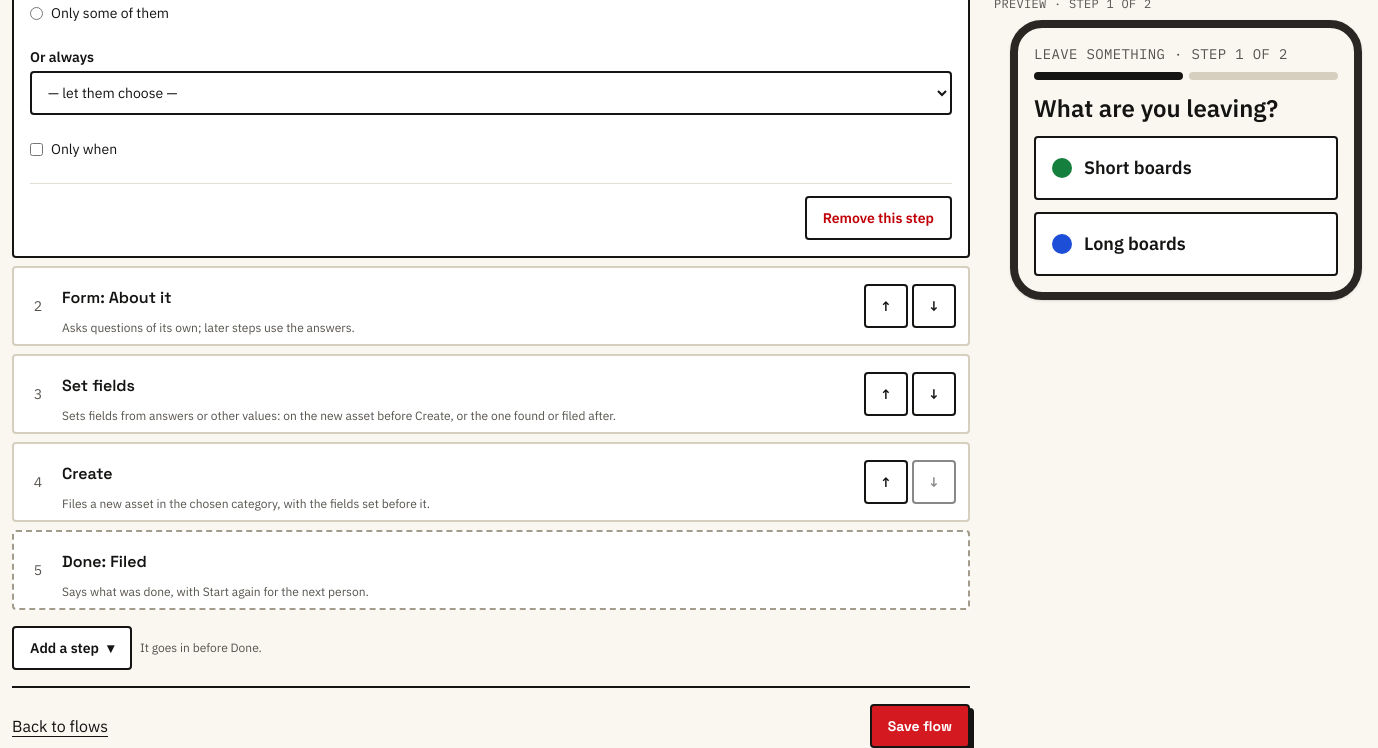
Scenario: FlowEditor › adds a step before Done, and moves steps but not Done
(page scrolled)
Click the button "Add a step ▾": (72, 648) x1=12 y1=626 x2=132 y2=670
(page scrolled)
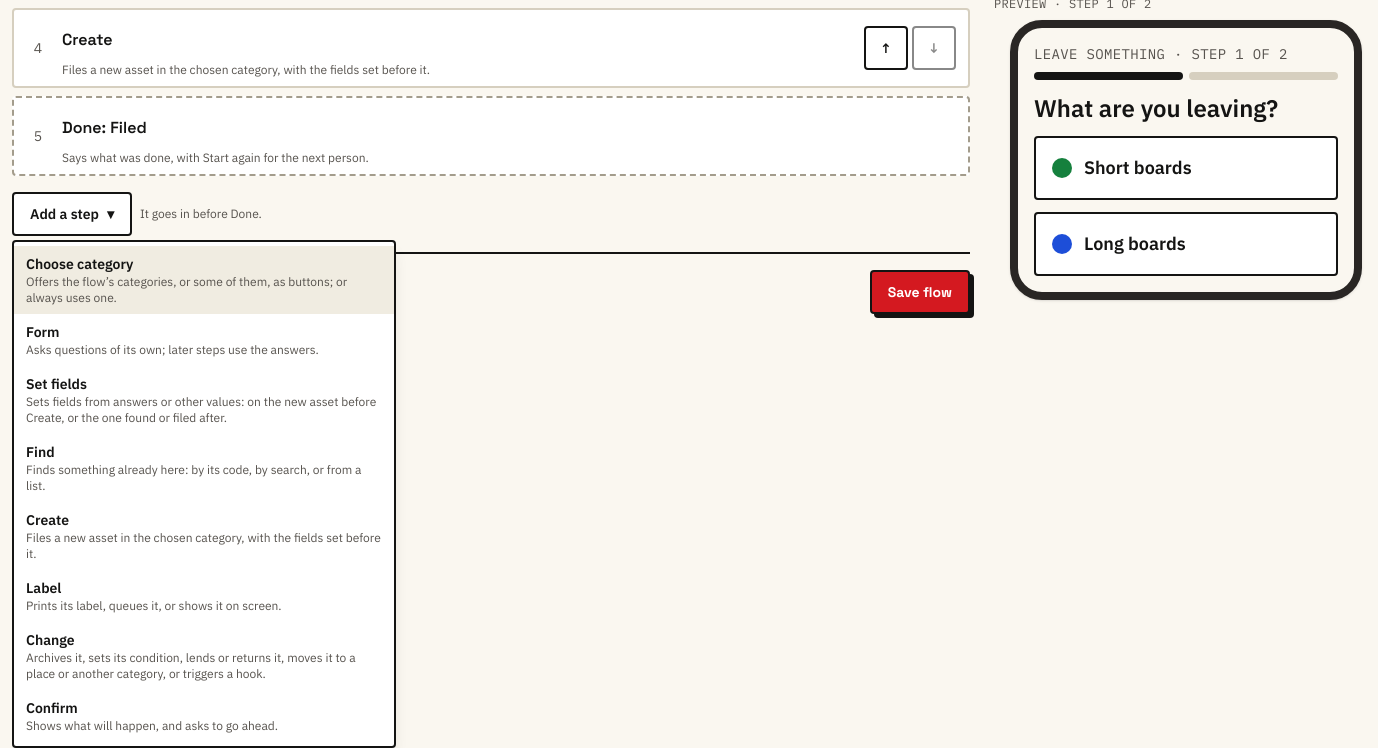
Click the menu item "Confirm": (204, 716) x1=14 y1=690 x2=394 y2=742
(page scrolled)
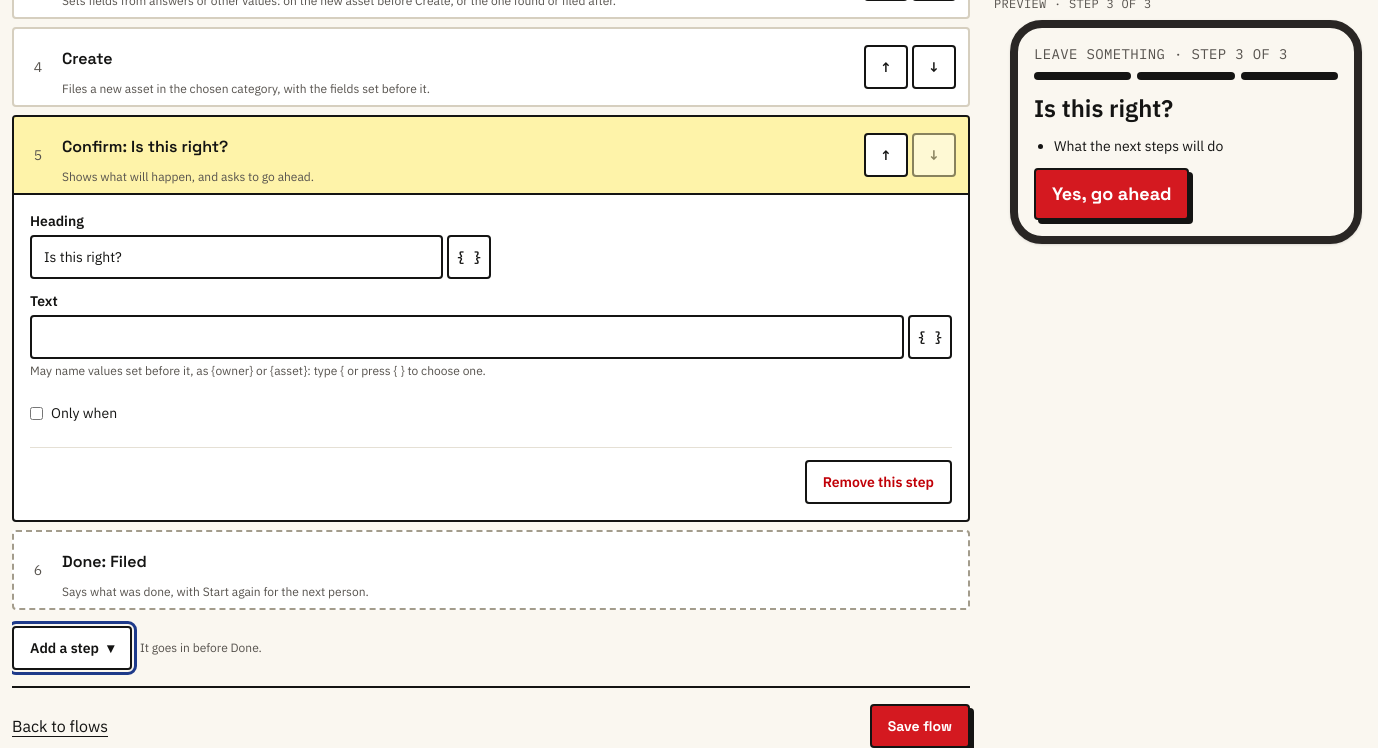
Result: the button named "Move step 5 down" is disabled at x1=912 y1=133 x2=956 y2=177
Click the button named "Move step 5 up": (886, 155) x1=864 y1=133 x2=908 y2=177
(page scrolled)
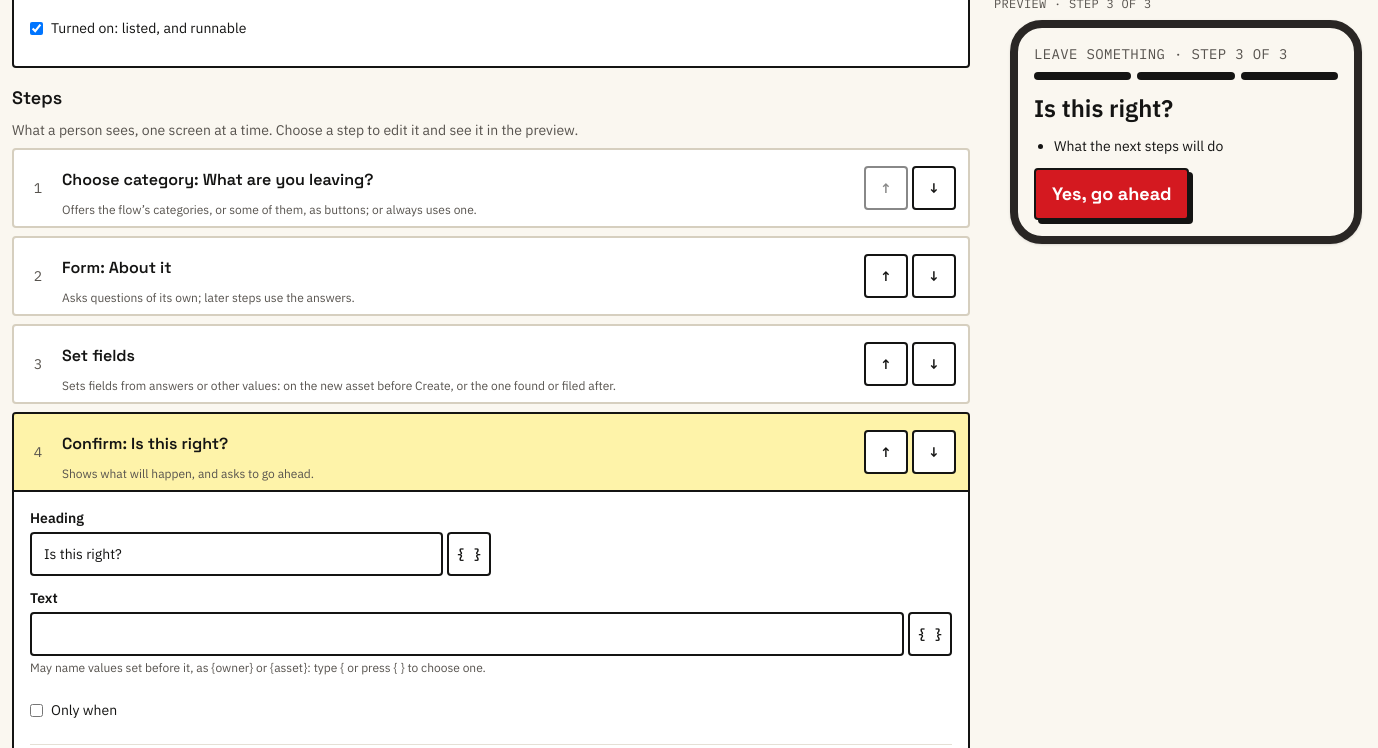
Result: the button named "4. Confirm: Is this right?" is expanded at x1=62 y1=422 x2=852 y2=466
# Moving another step past it keeps it open too.
Click the button named "Move step 3 down": (934, 364) x1=912 y1=342 x2=956 y2=386
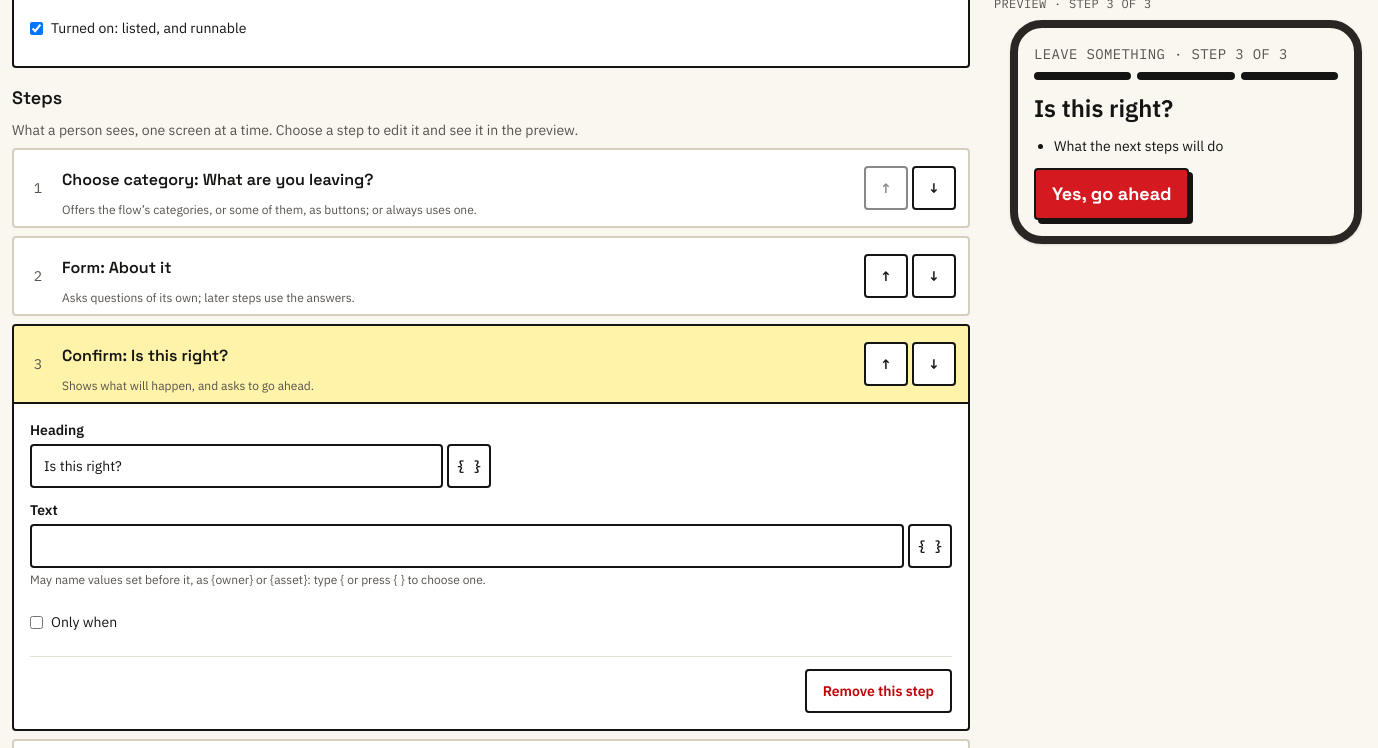
Result: the button named "3. Confirm: Is this right?" is expanded at x1=62 y1=334 x2=852 y2=378
